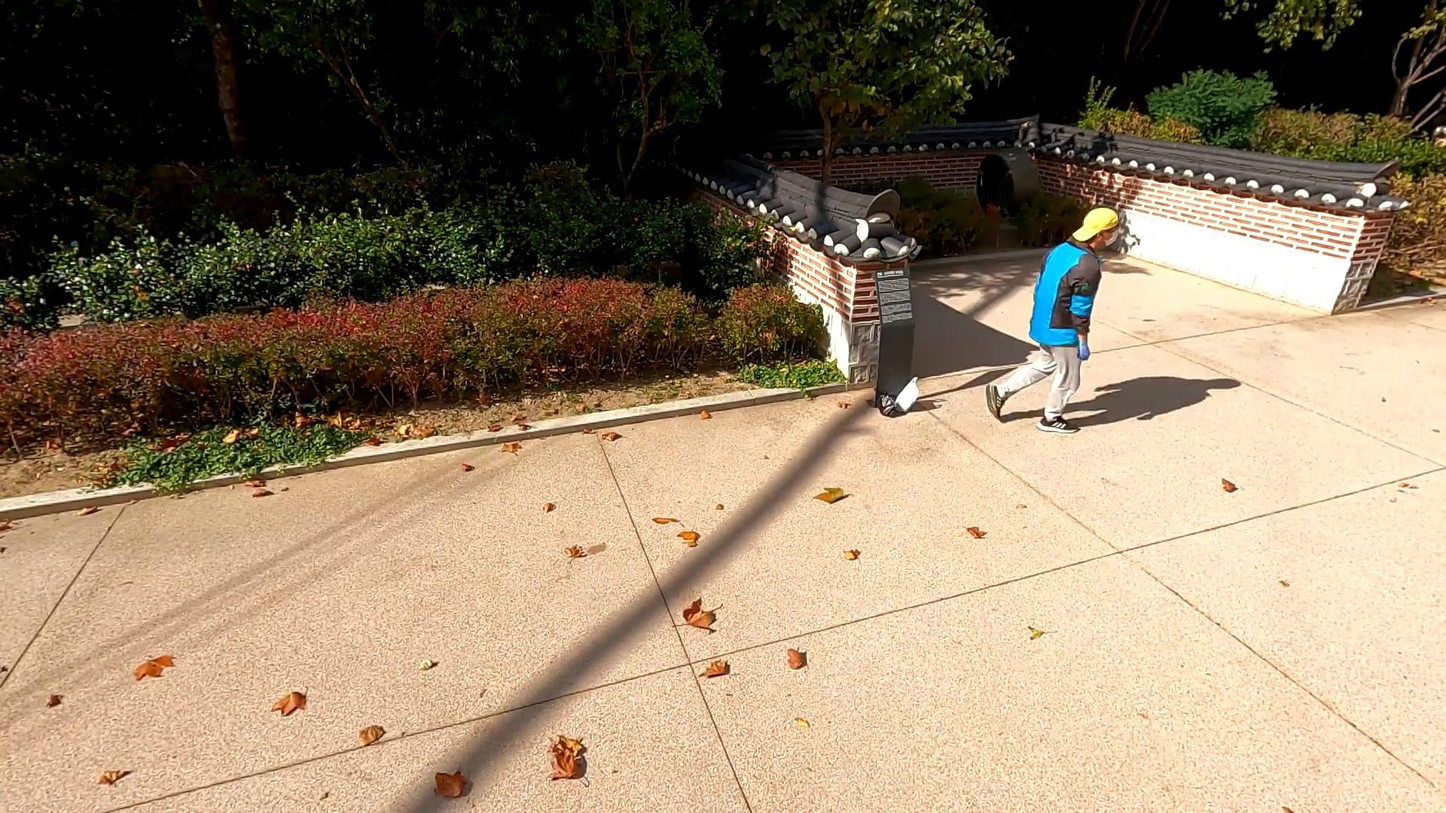person: (985, 206, 1126, 435)
trash: (895, 377, 925, 414), (874, 390, 899, 417)
